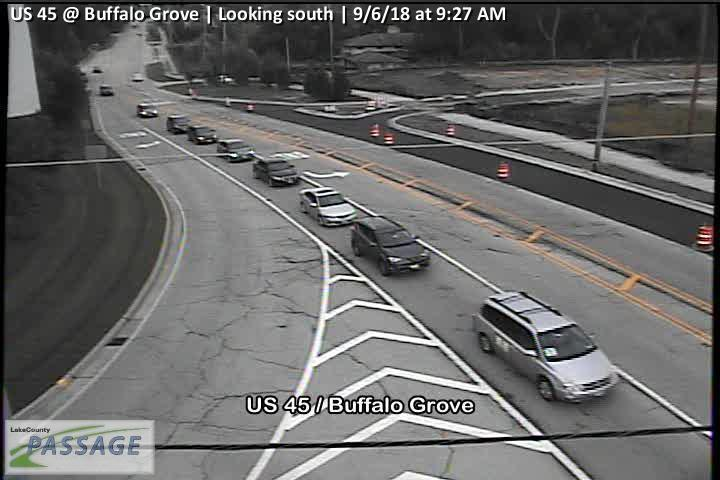SUV: (470, 288, 619, 404), (349, 216, 430, 276)
Sedan: (297, 185, 357, 227), (252, 156, 299, 187), (218, 139, 257, 161), (185, 122, 217, 144), (166, 113, 190, 133), (135, 102, 159, 118)
